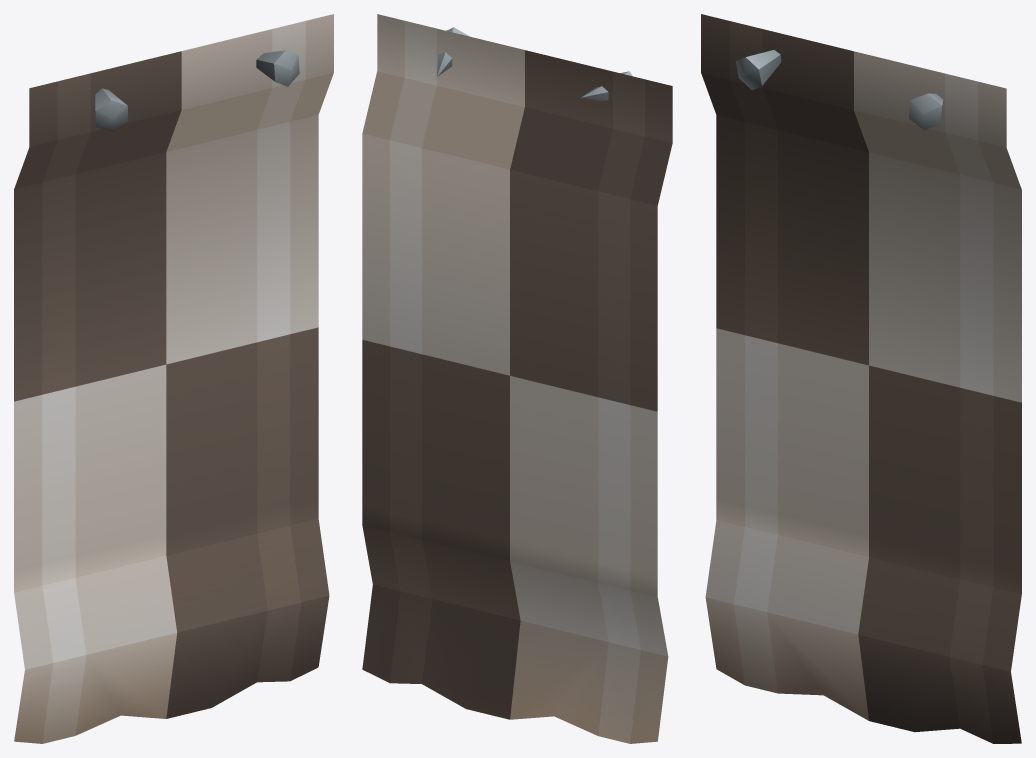
The model's file is banner_patternA_white.glb.
3 renders of one model, left to right at view 1: azimuth 30°, elevation 25°; view 2: azimuth 150°, elevation 25°; view 3: azimuth 330°, elevation 25°, orthographic. The views are drawn at different scales.
Parts seen in each view (by area): view 1: banner_patternA_white; view 2: banner_patternA_white; view 3: banner_patternA_white.
Part boxes in pixels (x1,y1,x2,y2): banner_patternA_white: (14, 14, 333, 743); banner_patternA_white: (362, 14, 672, 743); banner_patternA_white: (701, 14, 1021, 743).
Size of the model in its own units: 1.5 by 3.2 by 0.3117.
Materials: 1 (1 with a texture image).
